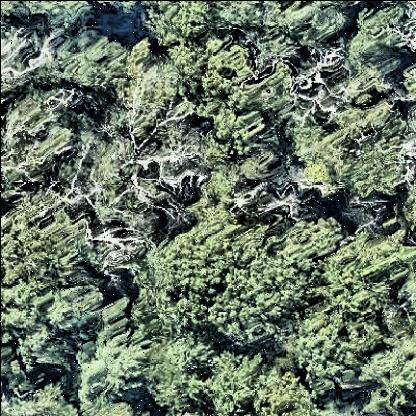tree-top: (147, 230, 303, 343), (291, 102, 413, 195), (1, 223, 102, 329), (4, 91, 85, 195), (204, 349, 317, 416), (169, 46, 266, 122), (79, 296, 147, 403), (150, 330, 204, 414), (304, 333, 365, 399), (346, 5, 398, 77), (139, 1, 213, 51), (359, 339, 416, 403), (19, 331, 67, 377)
